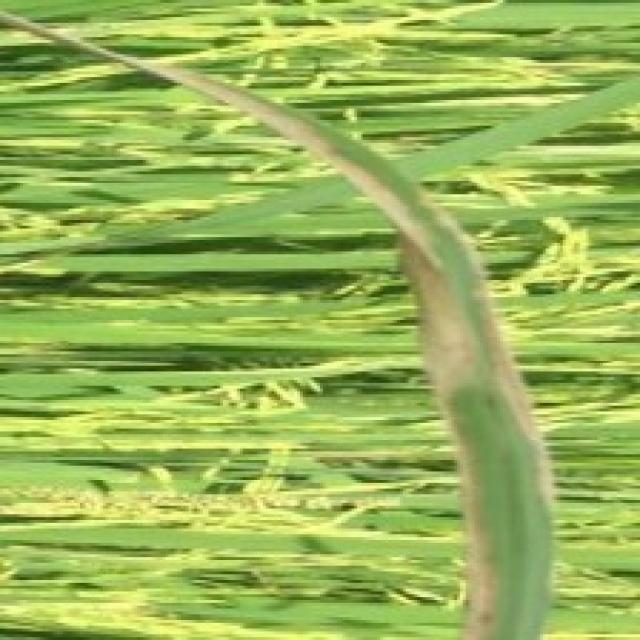Rice___Bacterial_Leaf_Blight: (0, 10, 561, 637)
